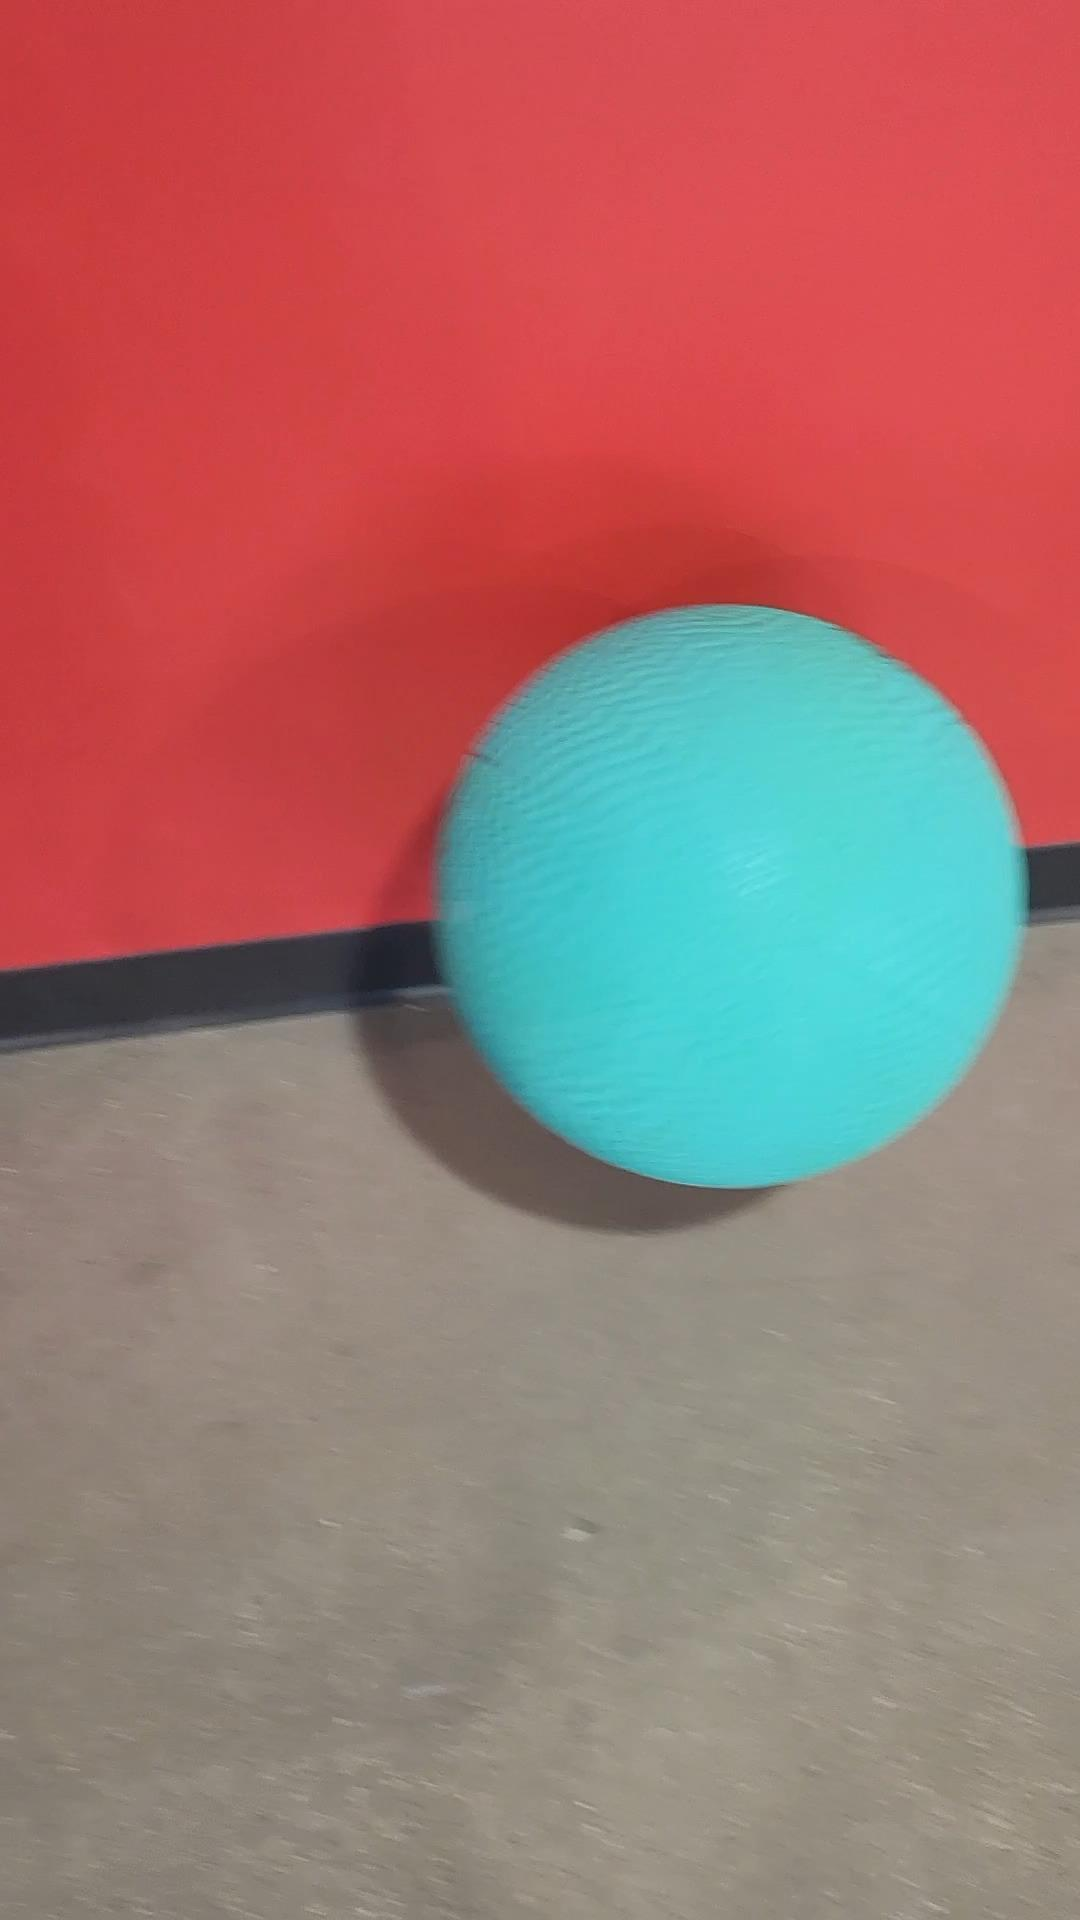algae: (451, 596, 1022, 1180)
